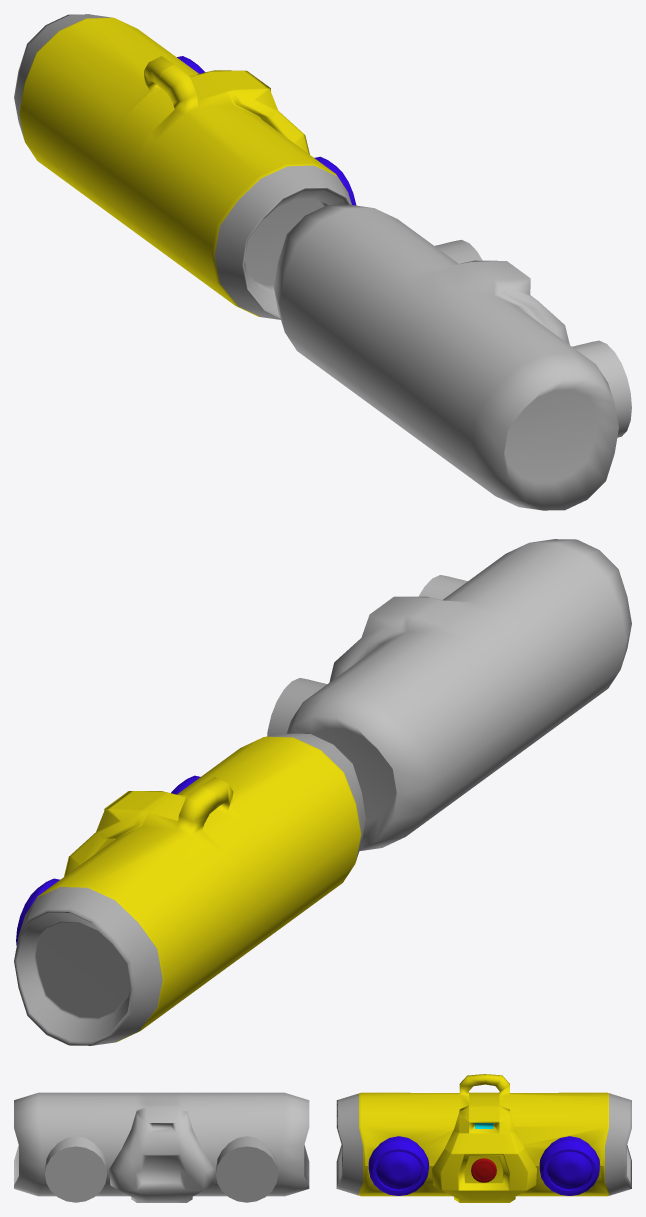
File: boom.fbx
3 views of the same model, one above another, from view 1: azimuth 30°, elevation 25°; view 2: azimuth 150°, elevation 25°; view 3: azimuth 270°, elevation 25° (orthographic). The views are drawn at different scales.
Parts seen in each view (by area): view 1: pCylinder1, polySurface3, pasted__pasted__pCylinder2, pasted__pCylinder2; view 2: polySurface3, pCylinder1, pasted__pCylinder2, pasted__pasted__pCylinder2; view 3: polySurface3, pCylinder1, pasted__pCylinder2, pasted__pasted__pCylinder2.
Part boxes in pixels (bbox=[...]): pCylinder1: bbox=[274, 204, 618, 510]; polySurface3: bbox=[14, 14, 356, 319]; pasted__pasted__pCylinder2: bbox=[572, 340, 631, 437]; pasted__pCylinder2: bbox=[435, 239, 482, 263]; polySurface3: bbox=[14, 733, 366, 1045]; pCylinder1: bbox=[286, 539, 631, 851]; pasted__pCylinder2: bbox=[267, 678, 326, 736]; pasted__pasted__pCylinder2: bbox=[418, 575, 467, 599]; polySurface3: bbox=[336, 1074, 631, 1202]; pCylinder1: bbox=[14, 1092, 309, 1202]; pasted__pCylinder2: bbox=[216, 1136, 277, 1202]; pasted__pasted__pCylinder2: bbox=[45, 1136, 106, 1202].
Size of the model in its own units: 4.9 by 5.18 by 25.8.
